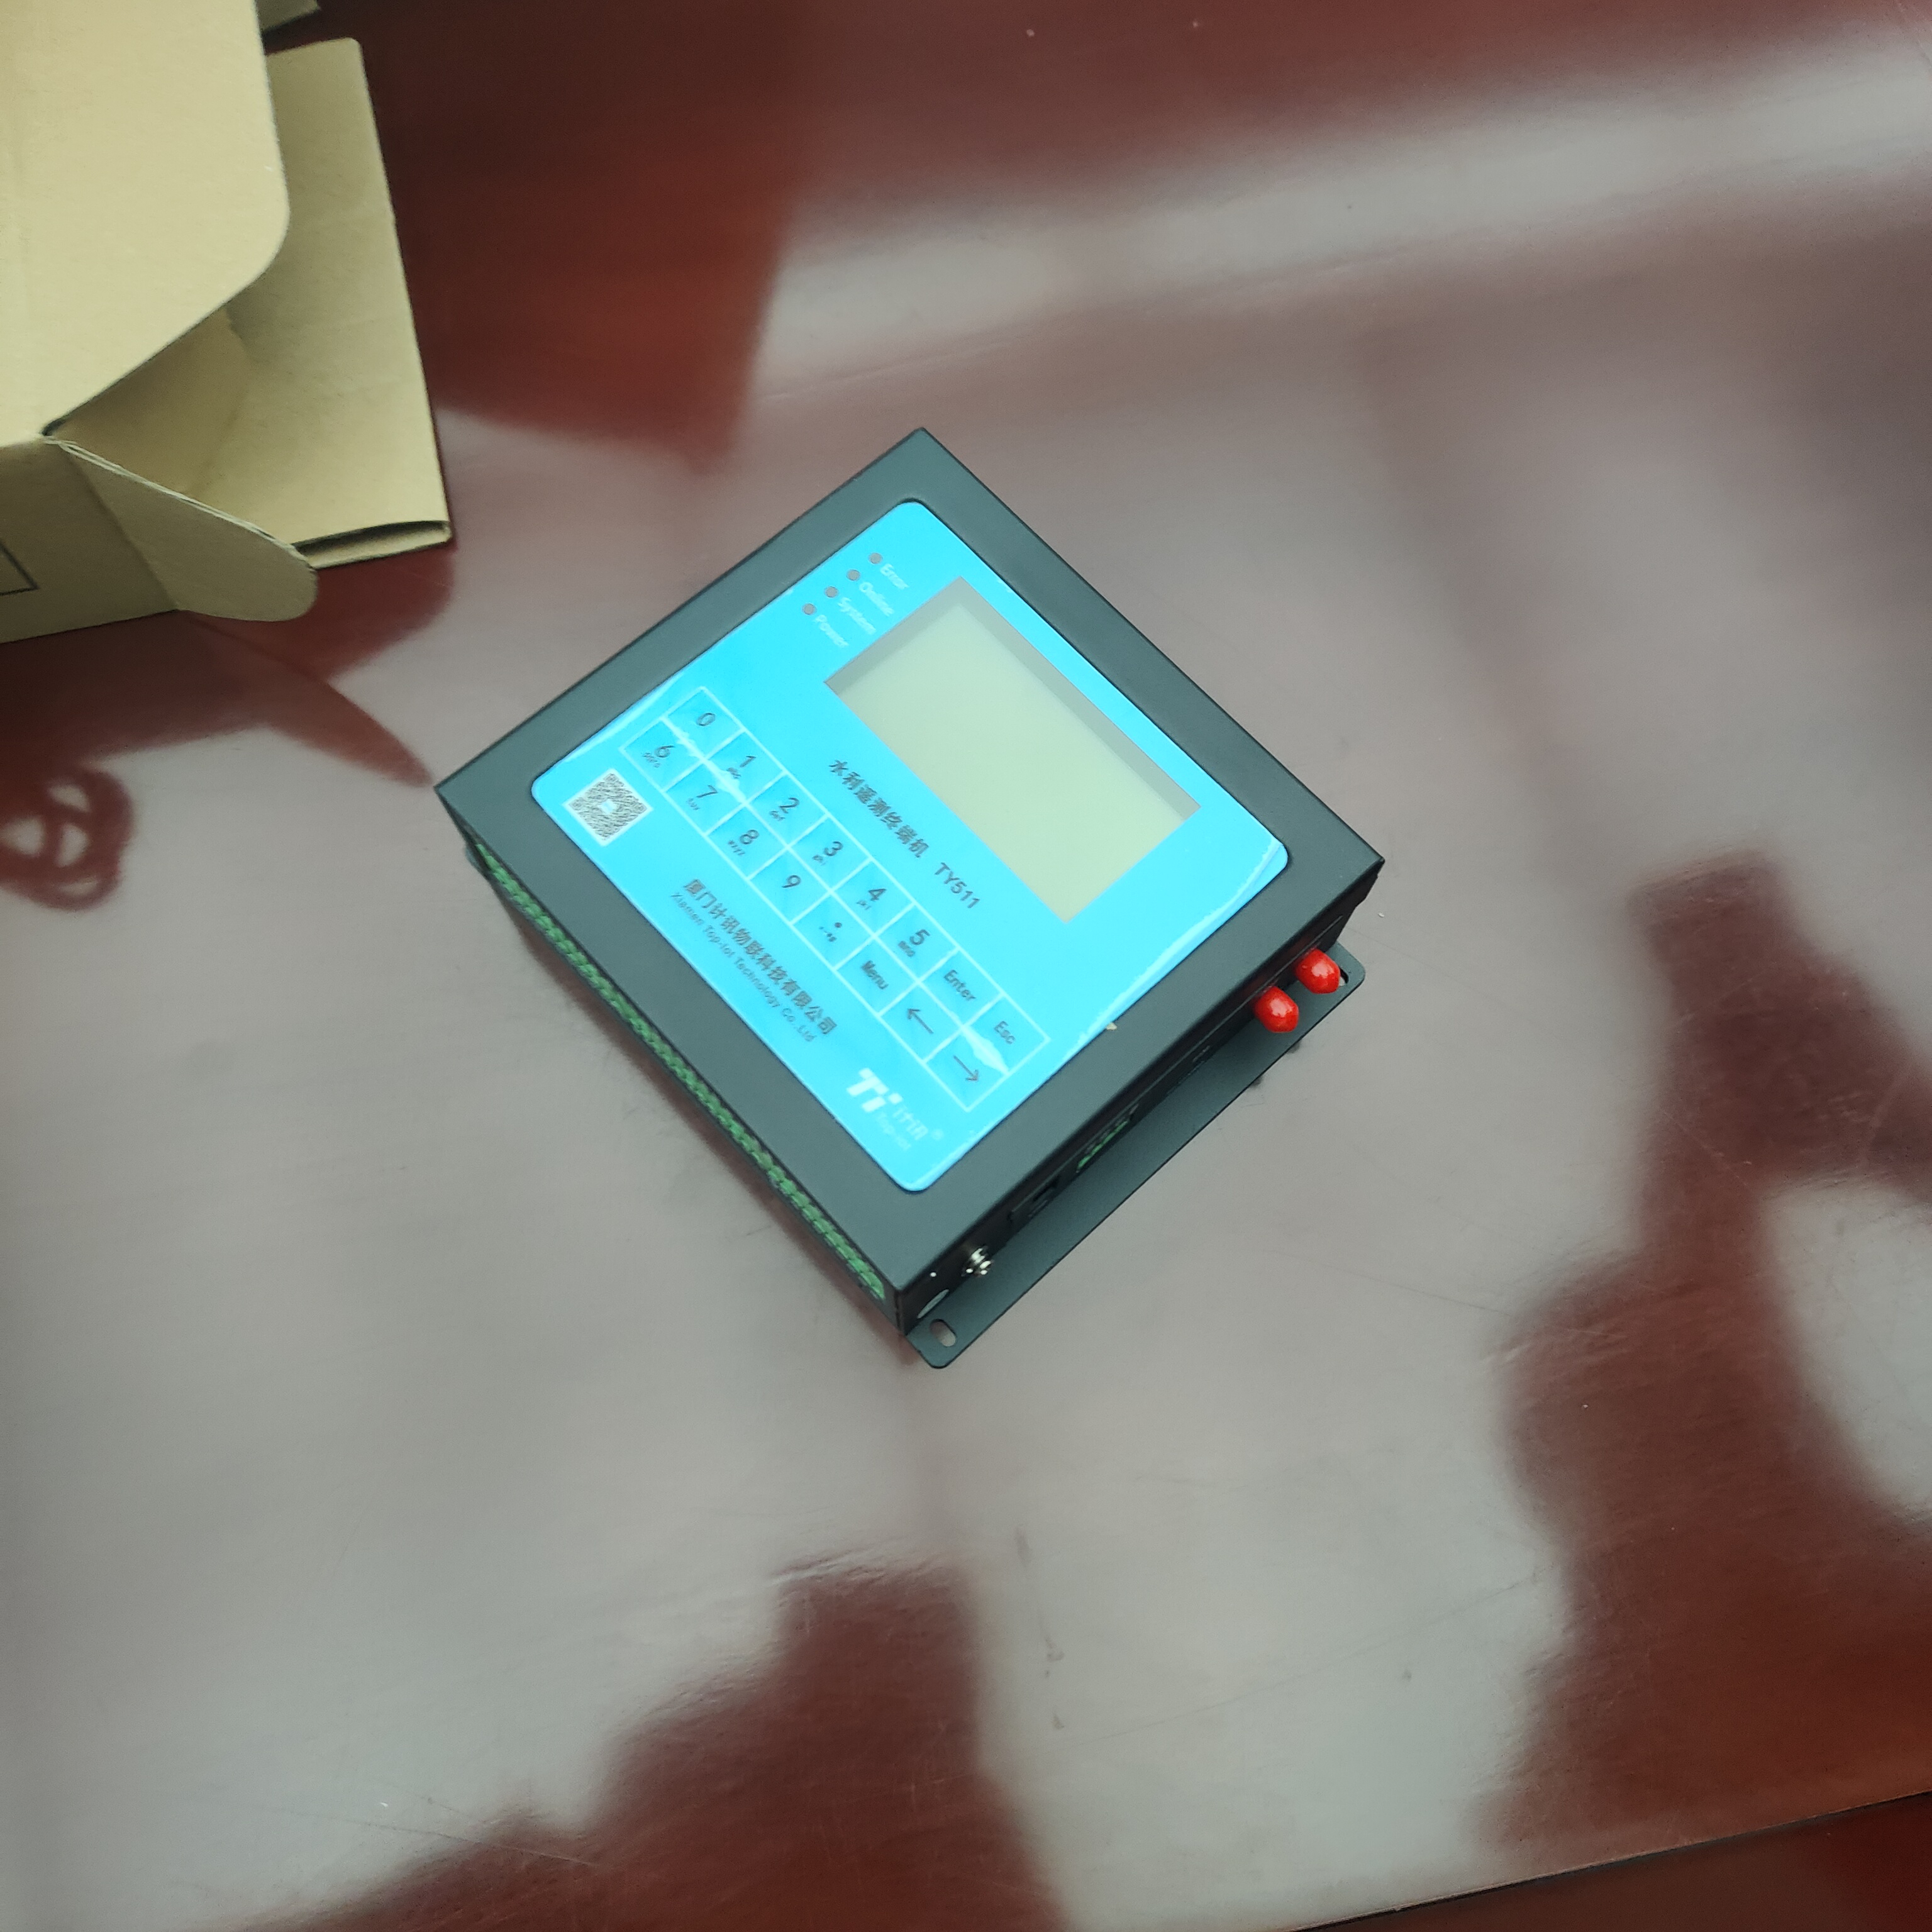slyczd: (437, 430, 1378, 1380)
